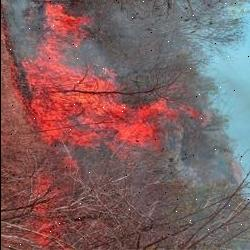fire: (11, 0, 172, 166)
